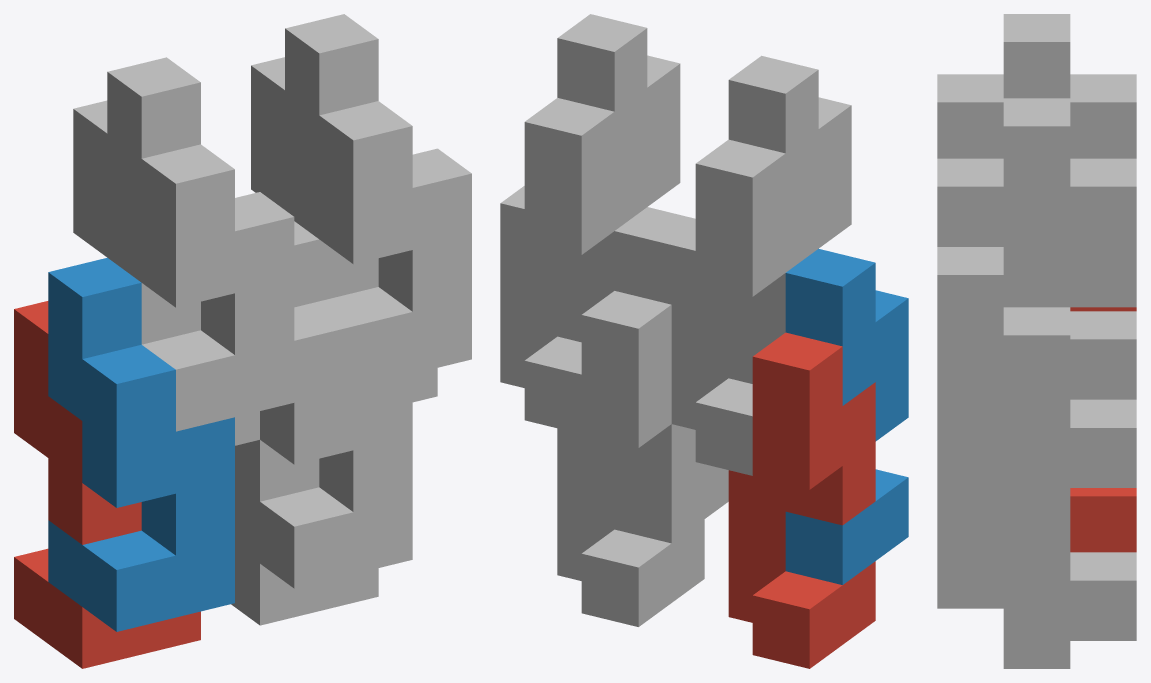
File: tiling.obj
3 renders of one model, left to right at view 1: azimuth 30°, elevation 25°; view 2: azimuth 150°, elevation 25°; view 3: azimuth 270°, elevation 25°, orthographic. The views are drawn at different scales.
Visible parts, largest first — view 1: copy_1_domain_2, copy_1_domain_4, copy_1_domain_8, copy_1_domain_6, copy_1_domain_1, copy_1_domain_3, copy_1_domain_7, copy_1_domain_5; view 2: copy_1_domain_1, copy_1_domain_5, copy_1_domain_7, copy_1_domain_3, copy_1_domain_2, copy_1_domain_4, copy_1_domain_8, copy_1_domain_6; view 3: copy_1_domain_7, copy_1_domain_8, copy_1_domain_5, copy_1_domain_4, copy_1_domain_6, copy_1_domain_3, copy_1_domain_1.
Part boxes in pixels (x1,y1,x2,y2): copy_1_domain_2: (48, 257, 234, 631); copy_1_domain_4: (107, 57, 294, 431); copy_1_domain_8: (285, 14, 471, 388); copy_1_domain_6: (235, 221, 412, 588); copy_1_domain_1: (14, 301, 200, 668); copy_1_domain_3: (73, 100, 259, 445); copy_1_domain_7: (251, 57, 437, 402); copy_1_domain_5: (231, 440, 378, 625); copy_1_domain_1: (728, 332, 875, 668); copy_1_domain_5: (557, 291, 704, 626); copy_1_domain_7: (500, 98, 647, 433); copy_1_domain_3: (671, 139, 818, 475); copy_1_domain_2: (785, 248, 908, 584); copy_1_domain_4: (728, 55, 851, 383); copy_1_domain_8: (557, 14, 680, 342); copy_1_domain_6: (614, 207, 728, 543); copy_1_domain_7: (1003, 158, 1136, 516); copy_1_domain_8: (937, 98, 1070, 455); copy_1_domain_5: (1003, 311, 1136, 668); copy_1_domain_4: (937, 14, 1070, 158); copy_1_domain_6: (937, 456, 1003, 608); copy_1_domain_3: (1070, 74, 1136, 158); copy_1_domain_1: (1070, 307, 1136, 552).
Bounding box in the file's own units: 6 × 9 × 3.
